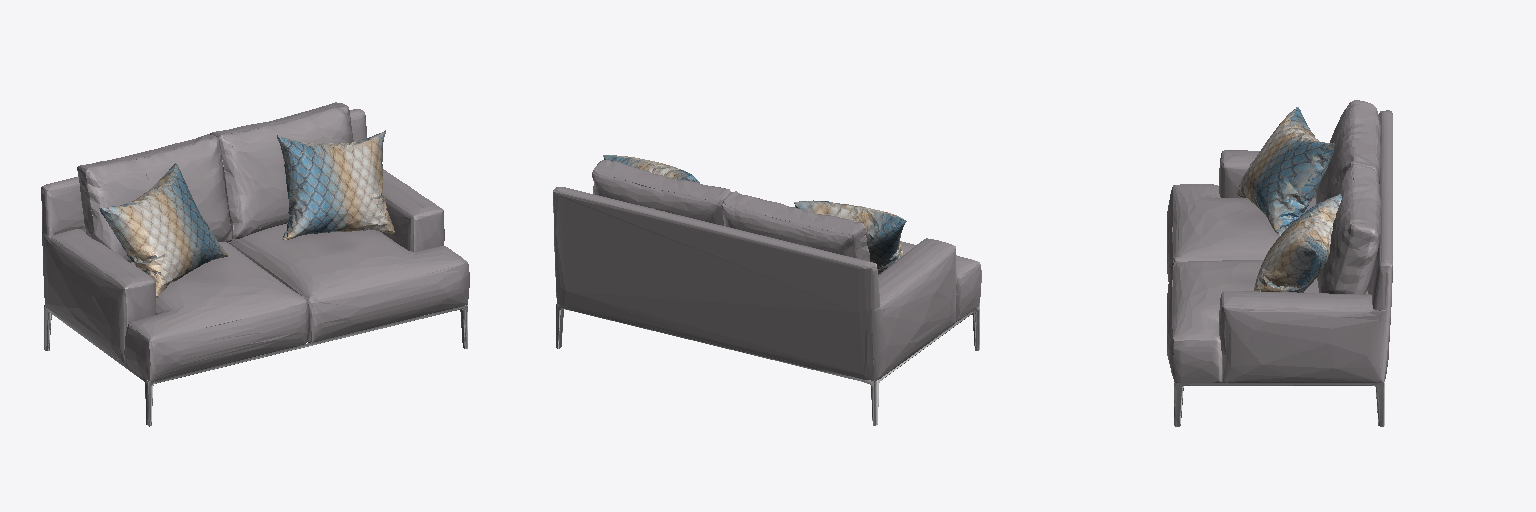
3 views of the same model, side by side, from view 1: azimuth 30°, elevation 25°; view 2: azimuth 150°, elevation 25°; view 3: azimuth 270°, elevation 25° (orthographic).
Parts seen in each view (by area): view 1: solid_004, solid_003, solid_001; view 2: solid_004, solid_003, solid_001; view 3: solid_004, solid_003, solid_001.
Boxes of the visible parts, box(x1,y1,x2,y2) form: solid_004: box(41, 102, 469, 381); solid_003: box(99, 130, 394, 298); solid_001: box(44, 305, 467, 425); solid_004: box(553, 160, 981, 380); solid_003: box(603, 155, 906, 274); solid_001: box(556, 304, 979, 425); solid_004: box(1167, 100, 1392, 382); solid_003: box(1237, 107, 1341, 292); solid_001: box(1174, 381, 1384, 426).
Bounding box in the file's own units: 1.6 × 0.864 × 0.9496.
1 materials, 1 textured.